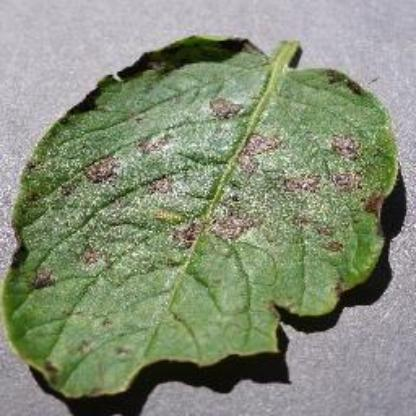Early-Blight: (6, 27, 400, 400)
